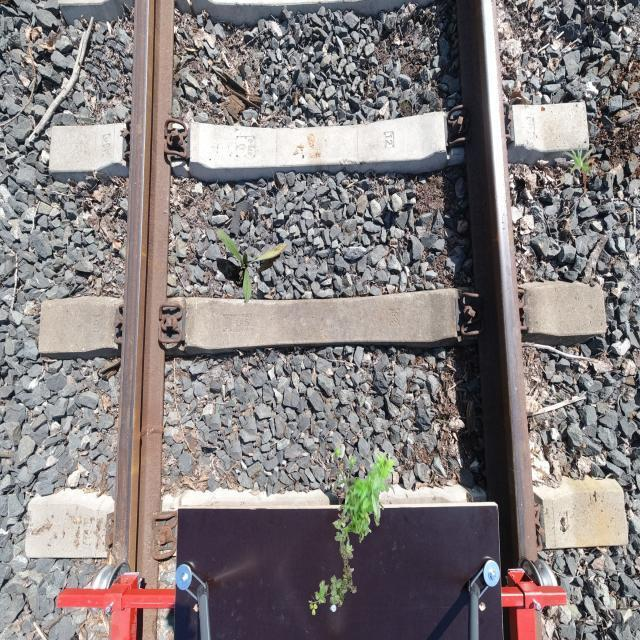Plant: (333, 445, 398, 552), (216, 229, 288, 304), (308, 512, 356, 616), (562, 141, 594, 176)
